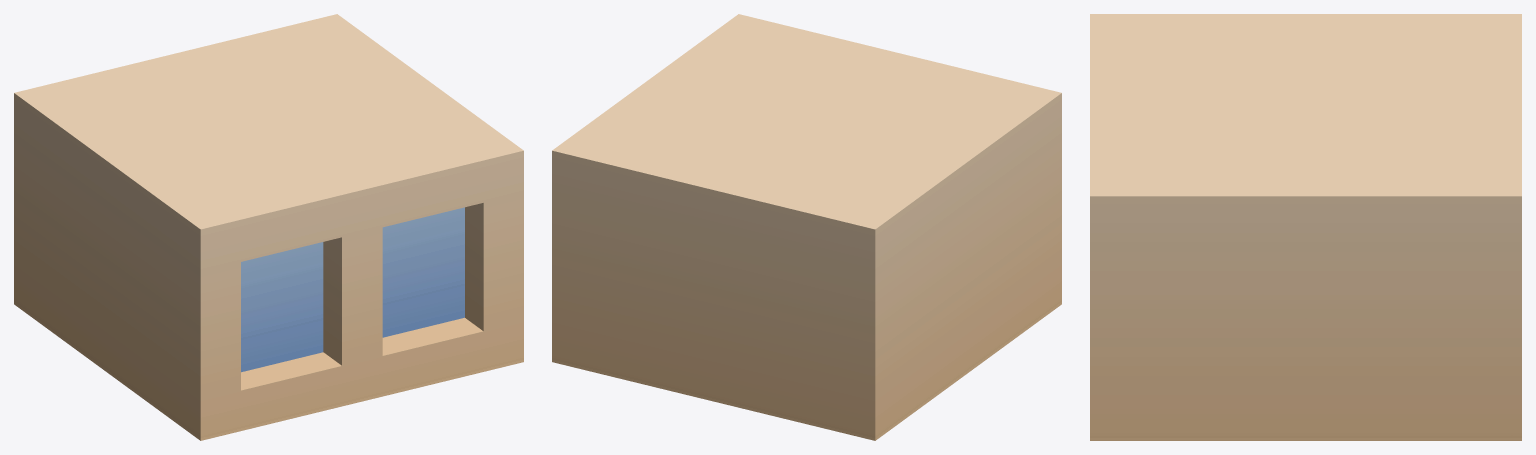
The model's file is building-windows.glb.
The picture shows the model from 3 angles, left to right: view 1: azimuth 30°, elevation 25°; view 2: azimuth 150°, elevation 25°; view 3: azimuth 270°, elevation 25°; orthographic projection. The views are drawn at different scales.
Visible parts, largest first — view 1: building-windows; view 2: building-windows; view 3: building-windows.
Part boxes in pixels (x1,y1,x2,y2): building-windows: [14, 14, 523, 440]; building-windows: [552, 14, 1061, 440]; building-windows: [1090, 14, 1521, 440].
Size of the model in its own units: 1 by 0.625 by 1.
Materials: 1 (1 with a texture image).
